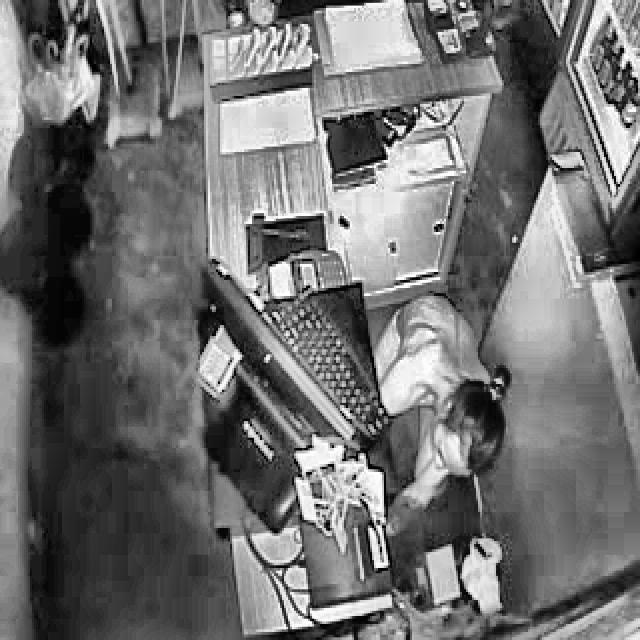burglary: (365, 286, 515, 548)
